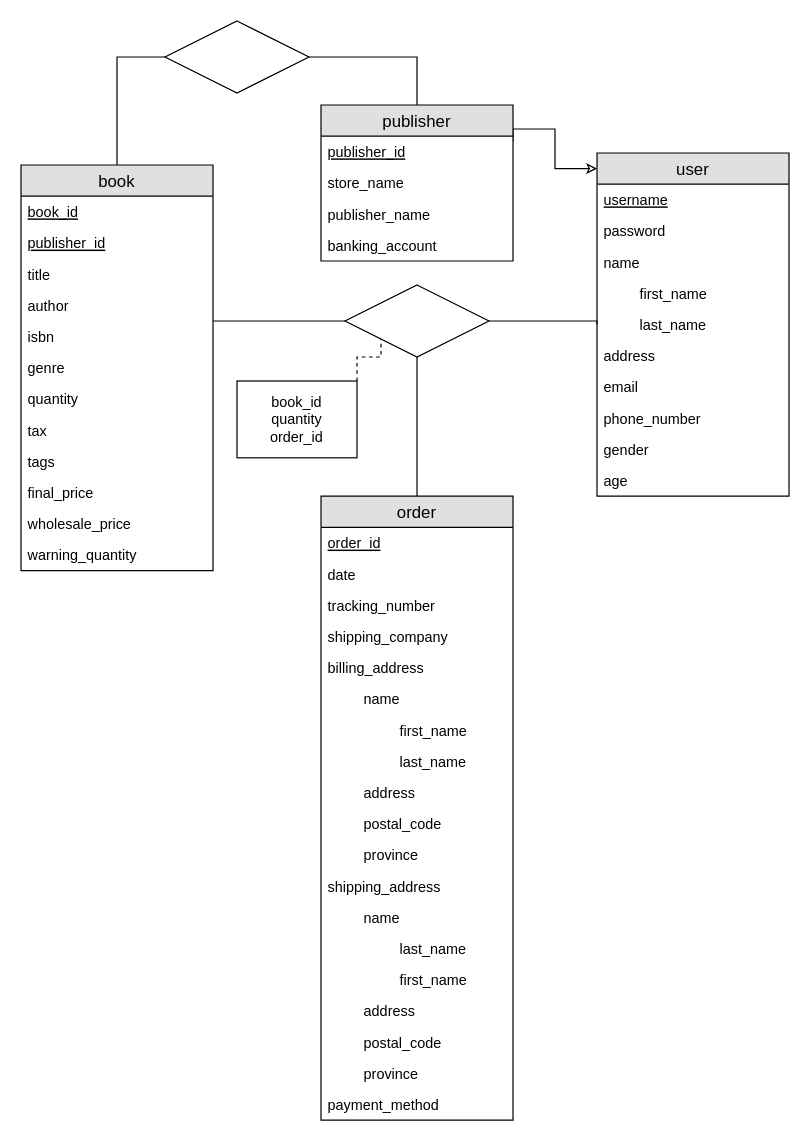
Image size: 810x1145. Some labels were removed from this diagram. Each missing label, with the centre of its shape:
ordered: [416,320]
published: [236,56]
